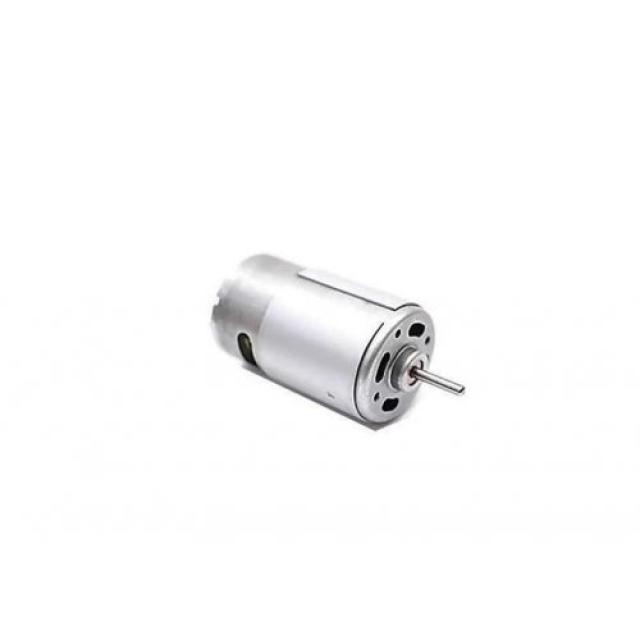motor: (162, 226, 489, 431)
